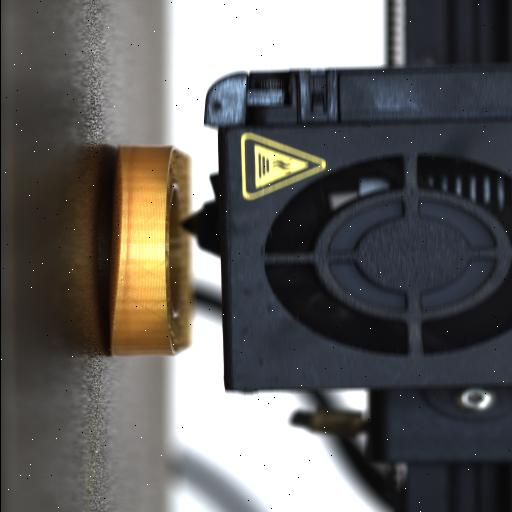warp: (107, 146, 126, 356)
